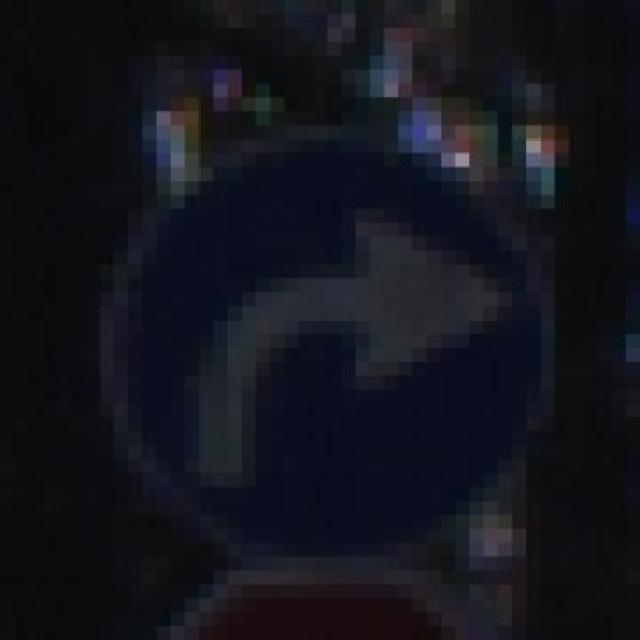Turn right ahead: (71, 97, 555, 557)
